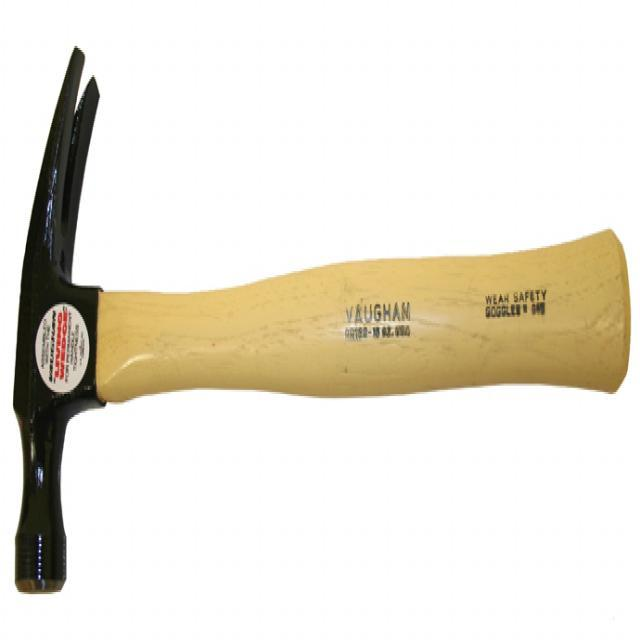hammer: (6, 29, 631, 615)
